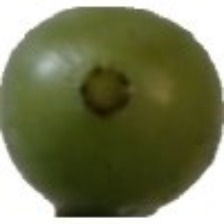grapes: (46, 50, 211, 194)
